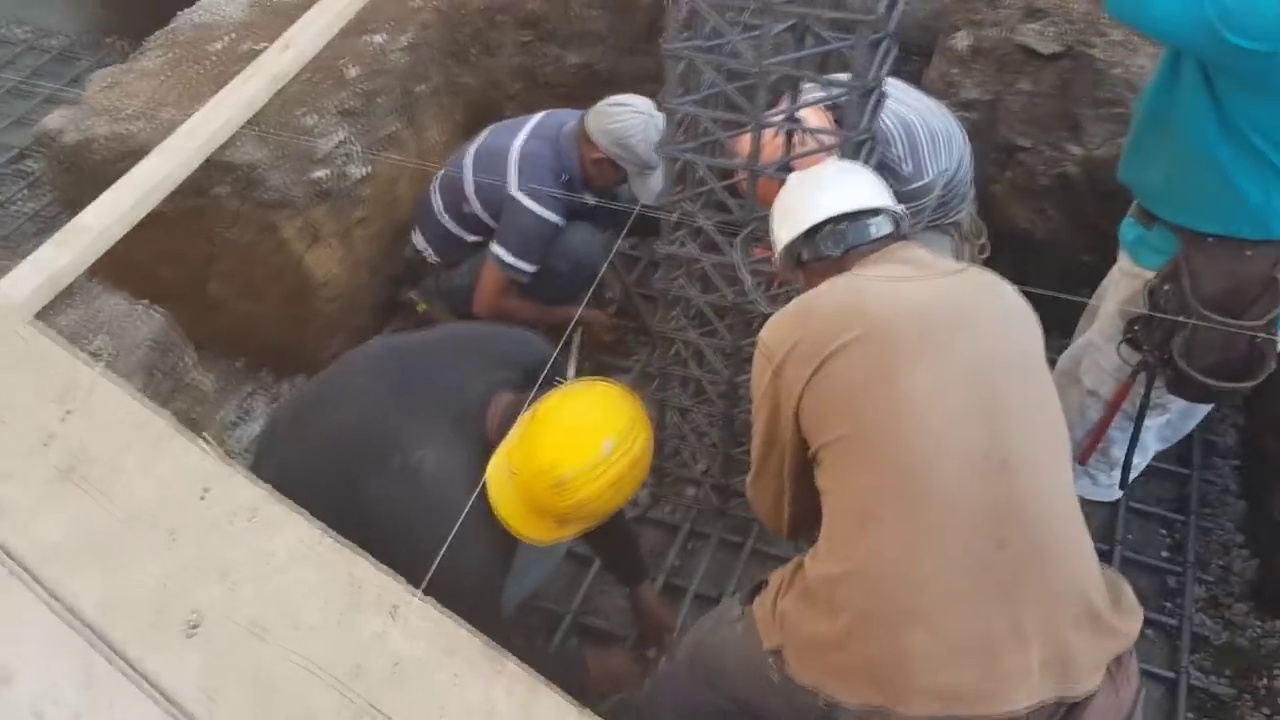helmet: (484, 385, 656, 546), (766, 152, 909, 266), (737, 106, 832, 202)
helmet-off: (565, 92, 664, 201)
helmet-on: (473, 364, 655, 552), (763, 150, 921, 292), (736, 92, 882, 201)
person: (616, 157, 1146, 720), (239, 352, 662, 682), (1027, 0, 1280, 533), (404, 90, 687, 345), (733, 71, 993, 270)
